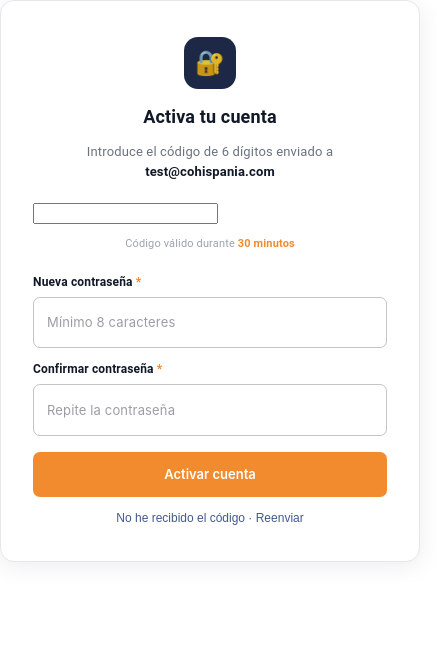
Test: AuthCodeForm › muestra error si las contraseñas no coinciden
Type "ABC123" into the field with test id "code-input". click: (126, 214)
box: [33,203,218,224]
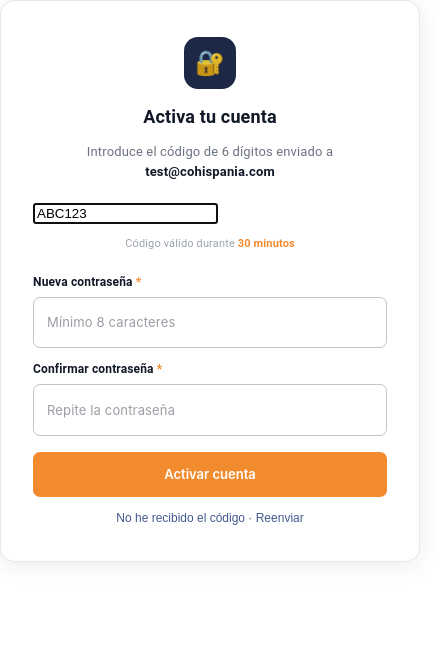
Type "contraseña1" into the password field with placeholder "Mínimo 8 caracteres". click: (210, 322)
box: [33,296,387,348]
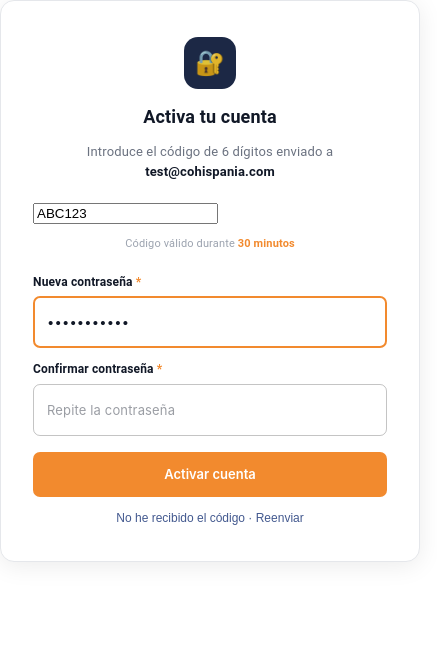
Type "contraseña2" into the password field with placeholder "Repite la contraseña". click: (210, 410)
box: [33,384,387,436]
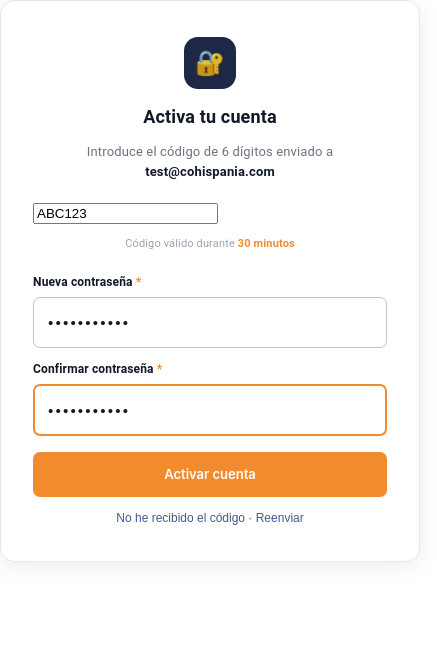
Click the button "Activar cuenta". click: (210, 474)
box: [33,452,387,497]
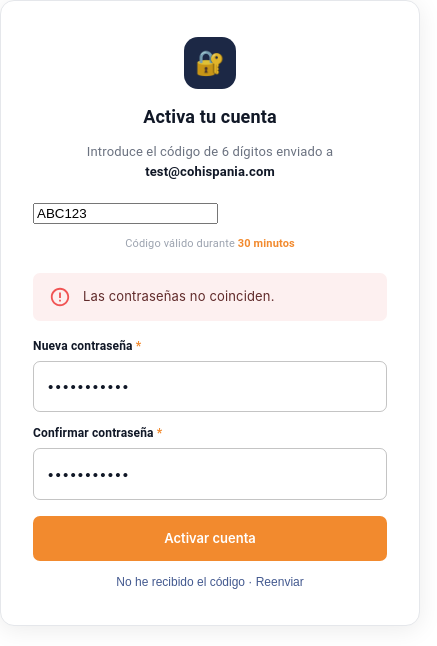
Result: the text "Las contraseñas no coinciden." is shown at [83,288,274,304]
